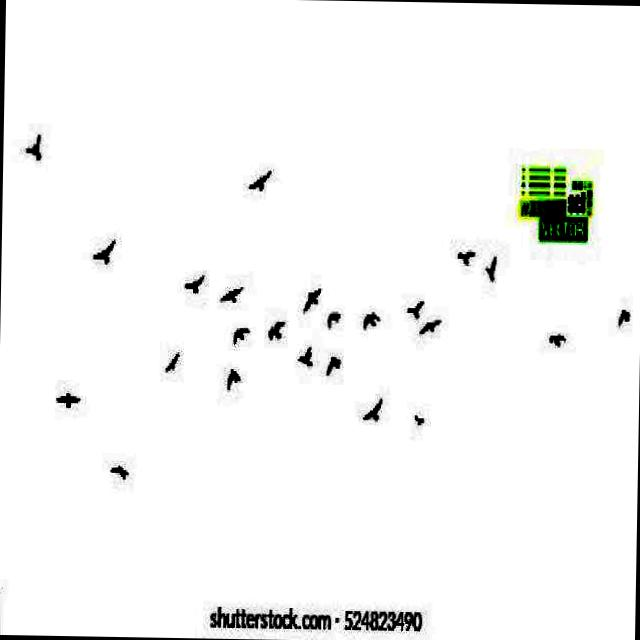bird: (358, 291, 385, 342), (262, 306, 288, 354), (409, 311, 452, 340), (296, 283, 328, 319), (16, 134, 46, 168), (82, 239, 121, 263), (321, 294, 342, 335), (225, 314, 254, 343), (322, 344, 346, 378), (246, 168, 275, 196), (359, 394, 386, 424), (401, 292, 424, 326), (51, 388, 78, 416), (219, 366, 250, 390), (480, 254, 503, 286), (178, 274, 205, 300), (294, 344, 319, 372), (611, 307, 640, 331), (218, 282, 240, 310), (106, 456, 130, 480), (452, 246, 478, 268), (160, 349, 180, 376), (407, 408, 425, 434), (544, 329, 568, 348)
